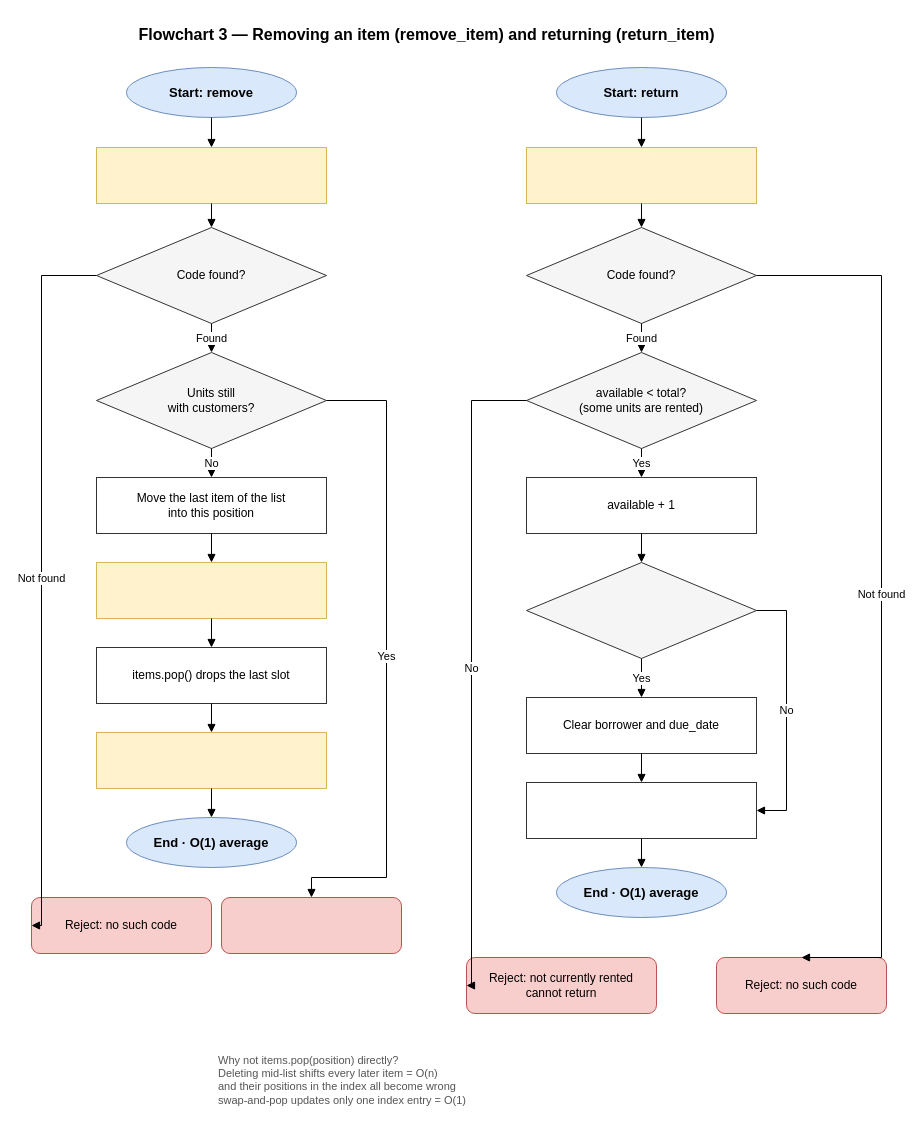
This 922x1144 diagram has some shape labels left out. Here are the shapes that lost their labels. From the top down, the centre of each, then its label:
pixel 211 175: position = index.get(code)
pixel 641 175: record = find(code)
pixel 211 590: Update the moved item's index to point to its new position
pixel 641 610: available = total? (every unit returned)
pixel 211 760: index.delete(code)
pixel 641 810: status = ok (unless broken)
pixel 311 925: Reject: must be returned before it can be removed
